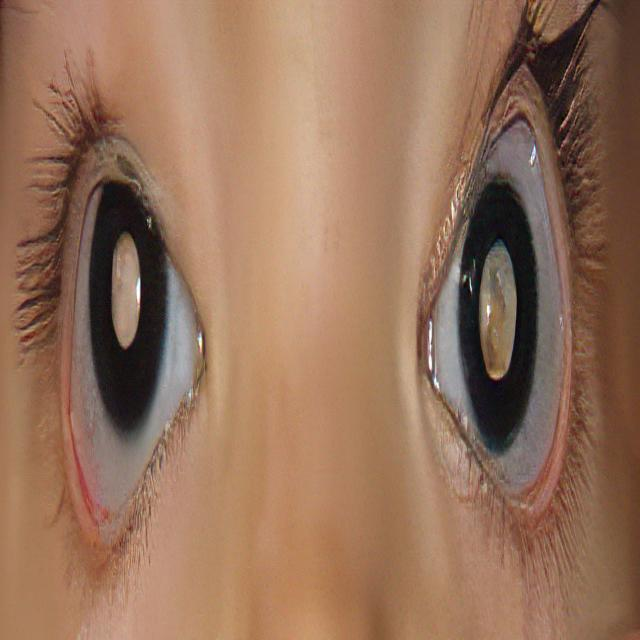reflexo-alterado: (396, 55, 571, 570), (51, 100, 203, 506)
